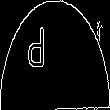P_S: (46, 30, 64, 80)
